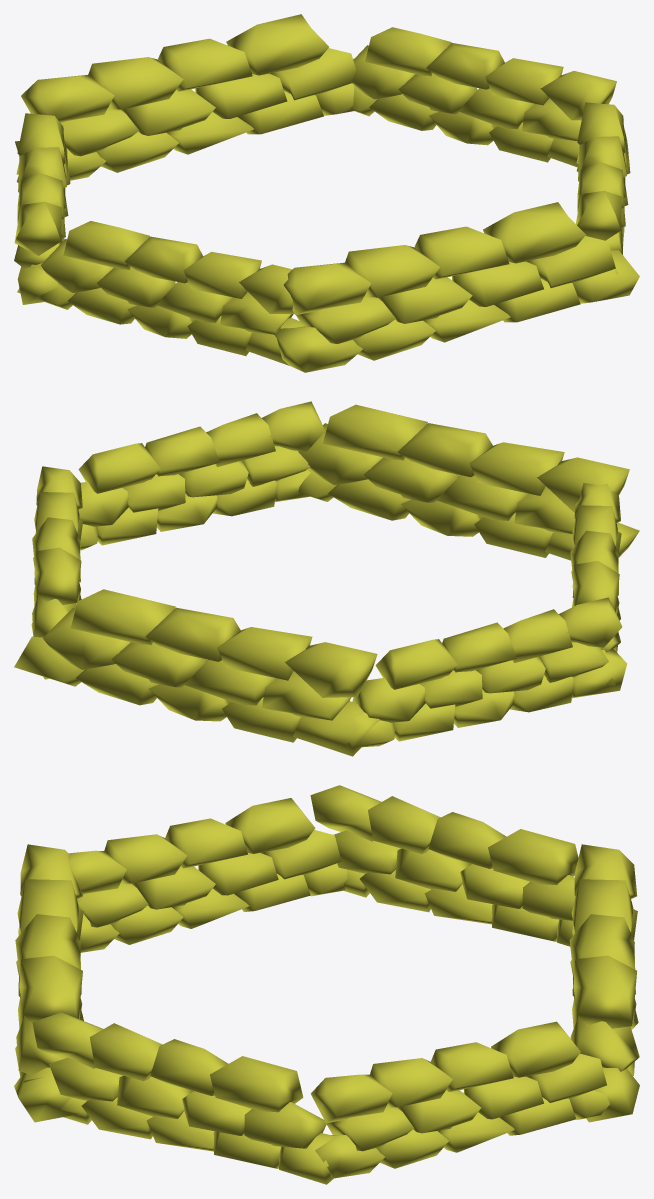
The model's file is okoop.fbx.
3 renders of one model, top to bottom at view 1: azimuth 30°, elevation 25°; view 2: azimuth 150°, elevation 25°; view 3: azimuth 270°, elevation 25°, orthographic. The views are drawn at different scales.
Parts seen in each view (by area): view 1: polySurface5; view 2: polySurface5; view 3: polySurface5.
Part boxes in pixels (x1,y1,x2,y2): polySurface5: [14, 14, 639, 372]; polySurface5: [14, 401, 639, 756]; polySurface5: [14, 785, 639, 1184].
Size of the model in its own units: 20.1 by 3.39 by 16.65.
